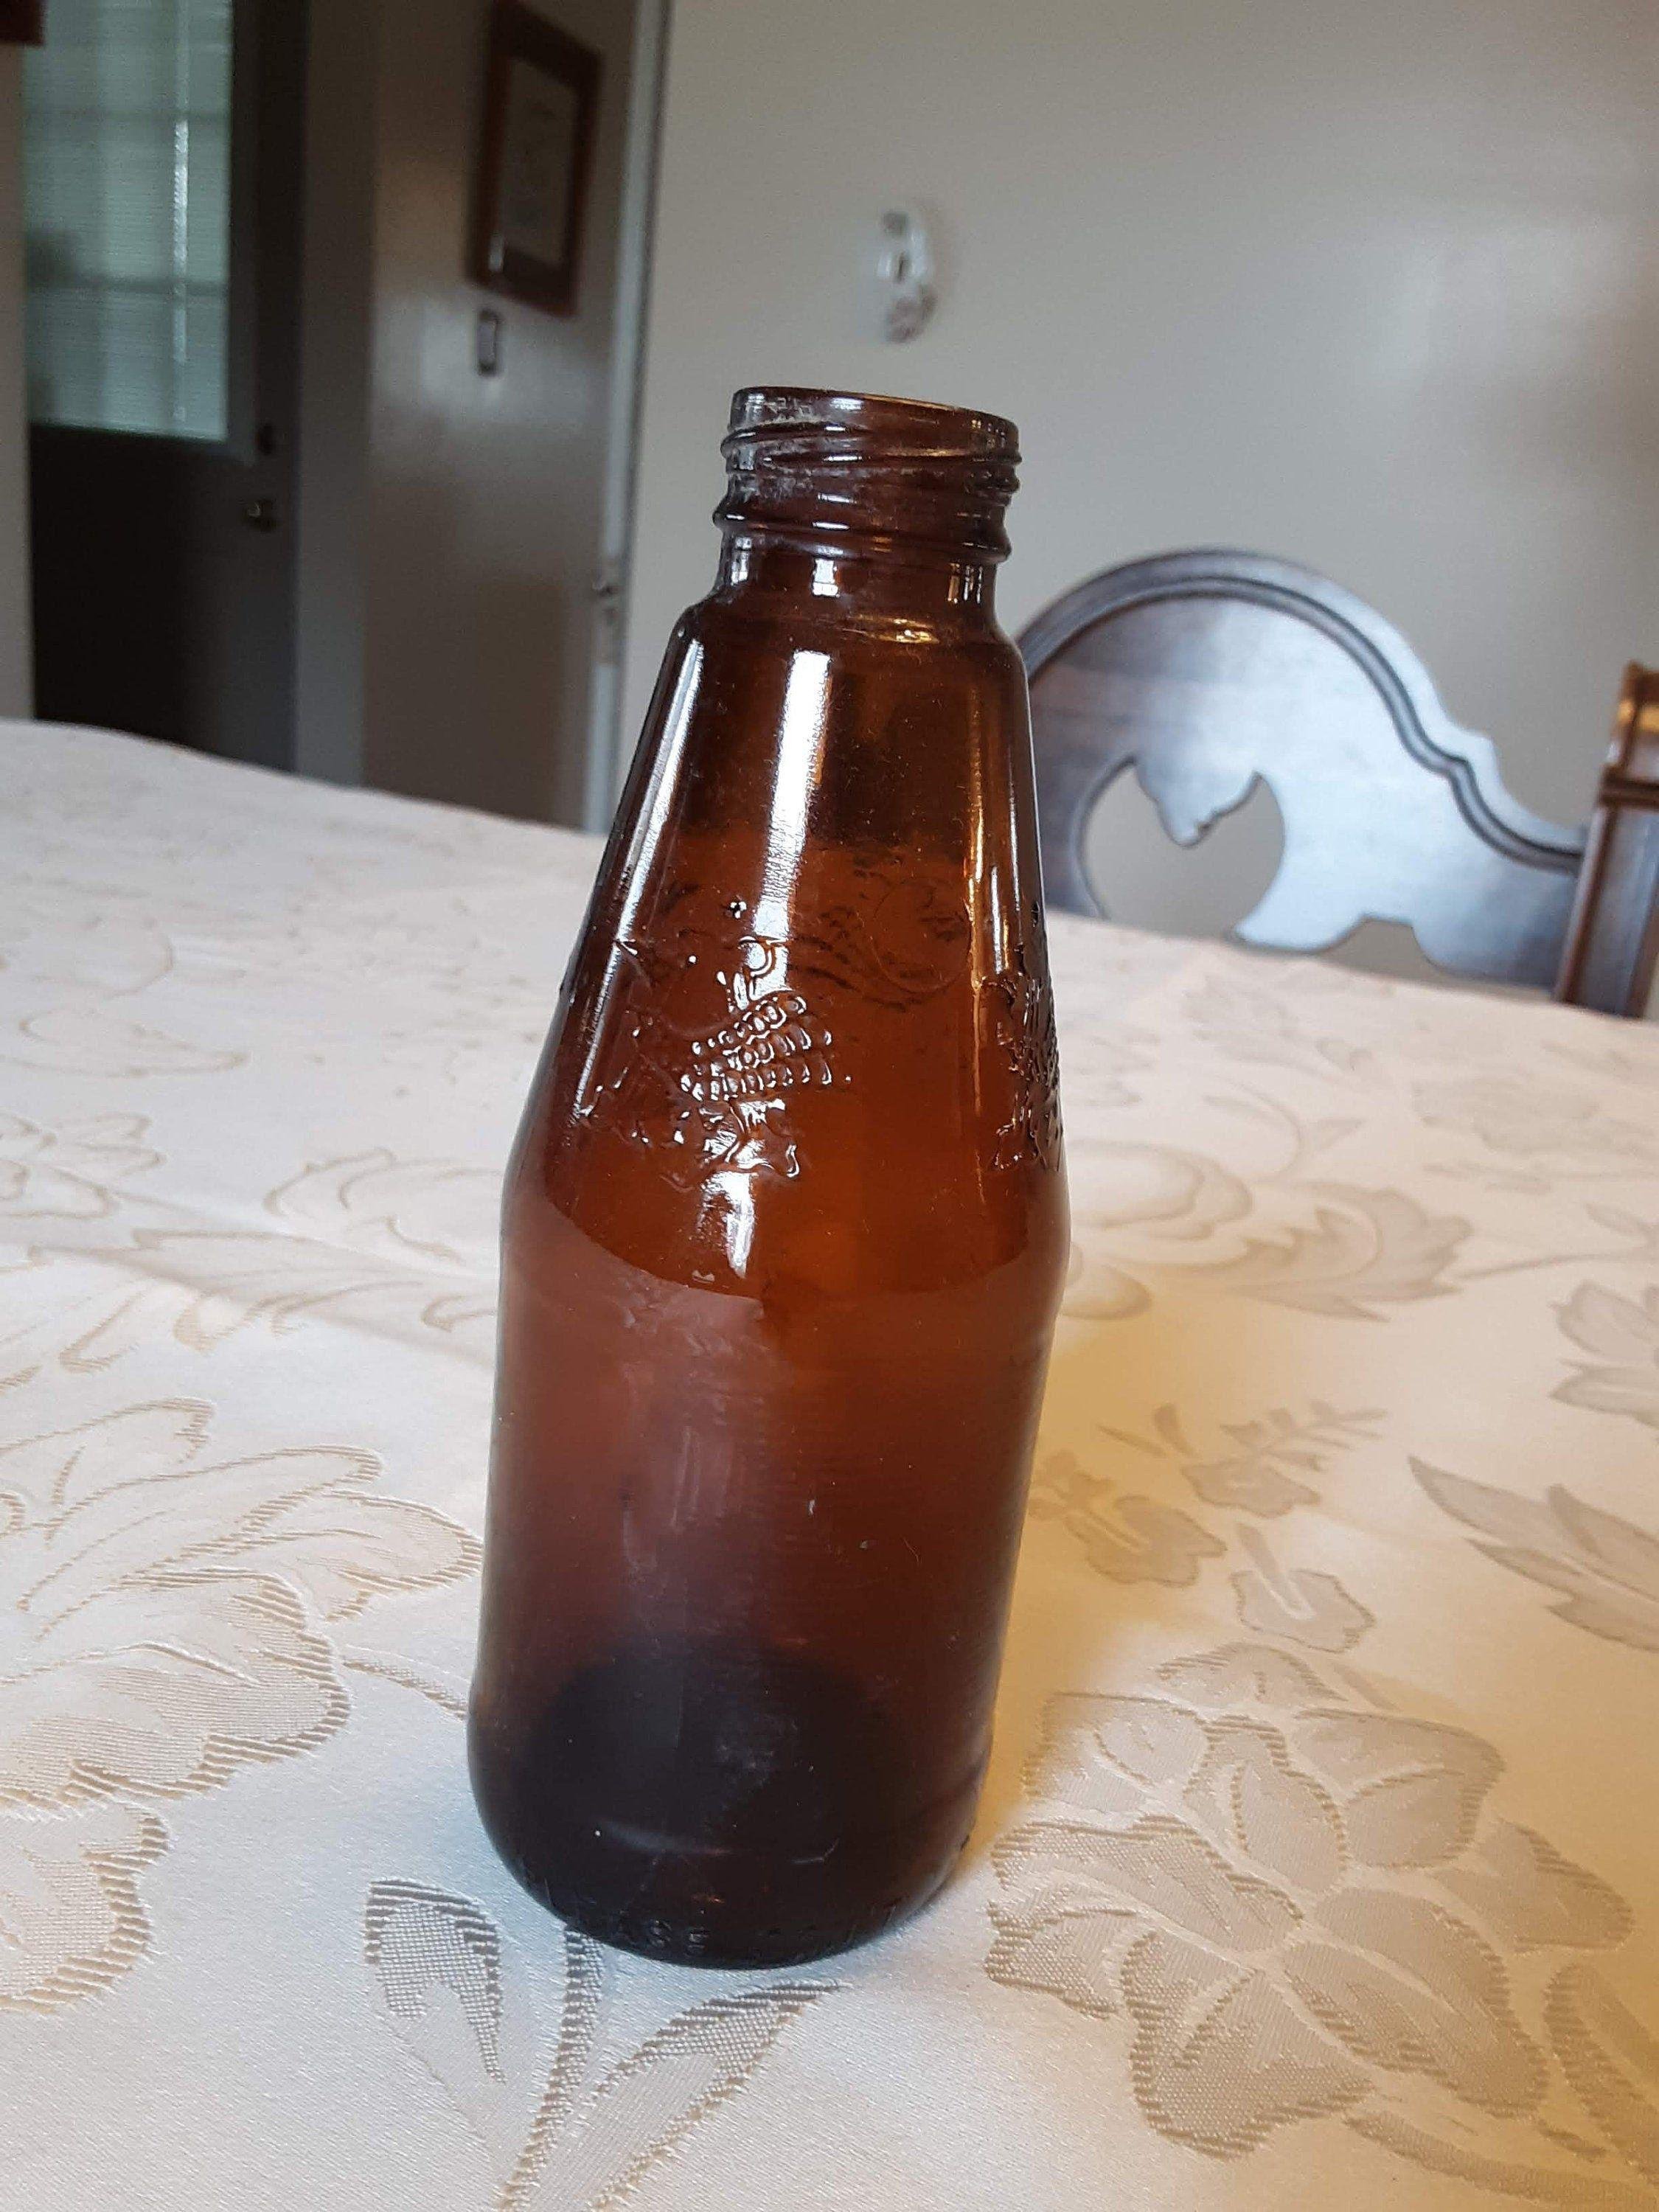glass: (472, 380, 1065, 1965)
